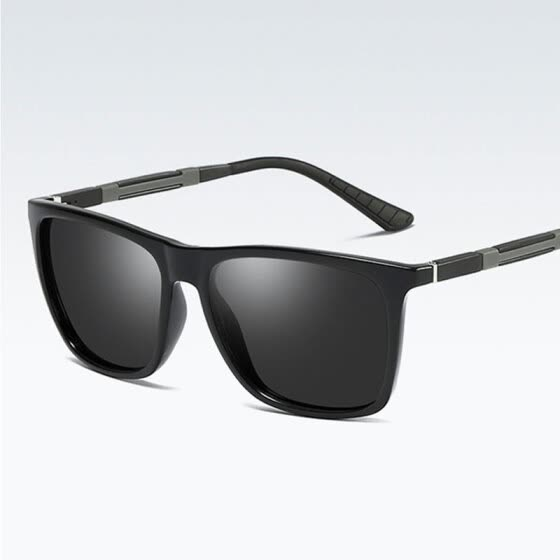sunglasses: (4, 171, 558, 429)
